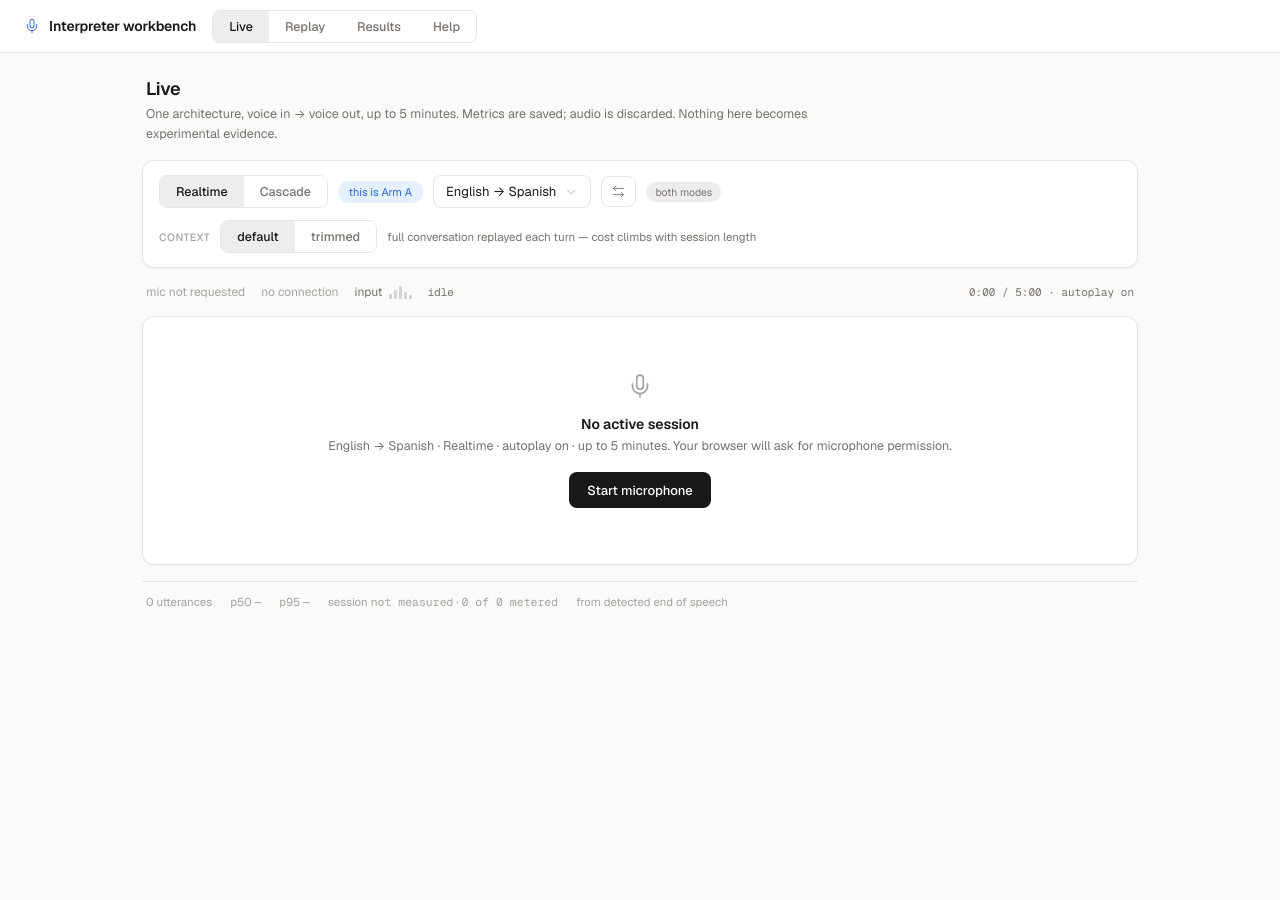
Test: TICKET 062 — a Live utterance RECORD names the selected languages › swapping the direction files the record as es→en, not en→es
The image size is (1280, 900).
Click the button "Start microphone" at (640, 490), box x1=569 y1=472 x2=711 y2=508
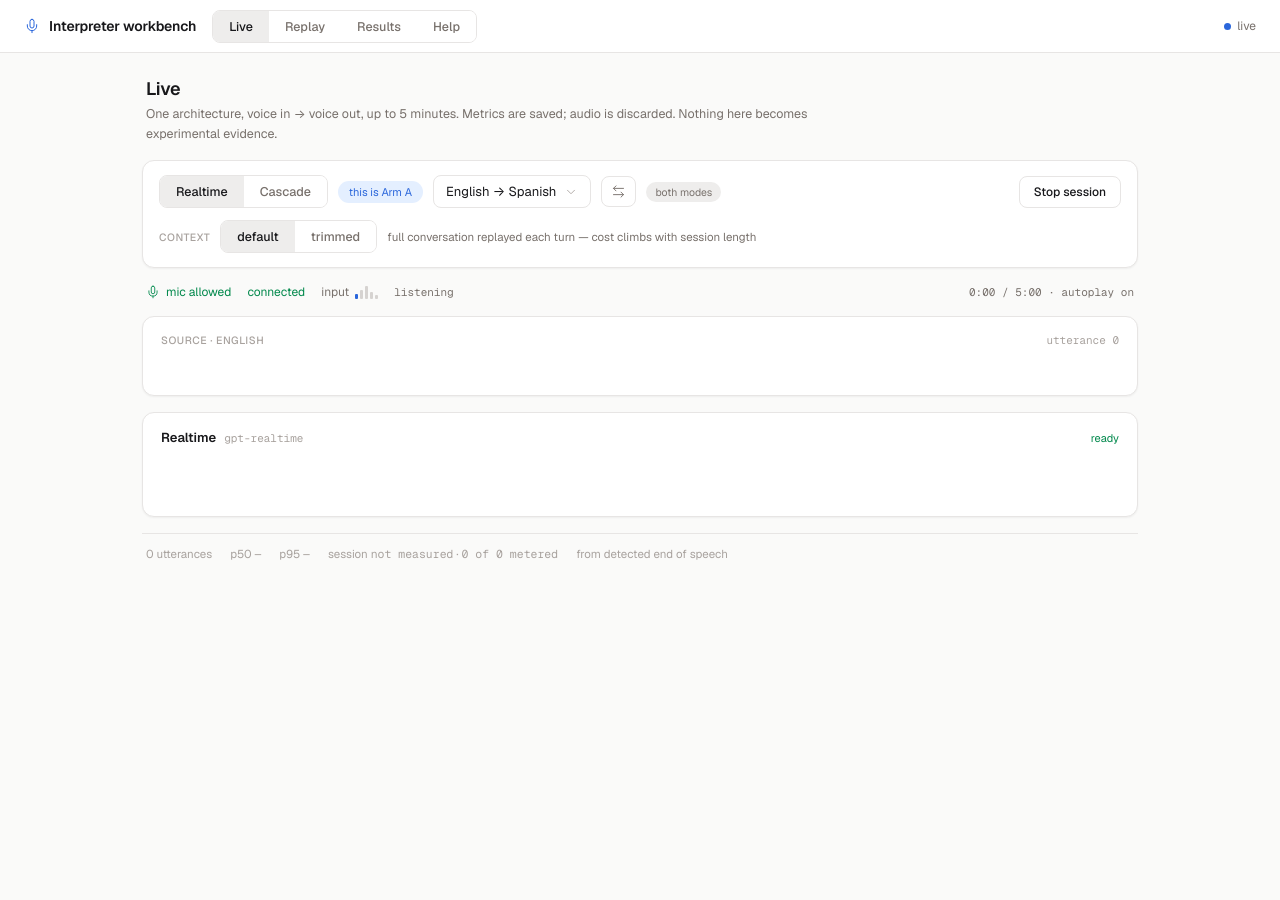
Click the button named "Swap direction" at (619, 192), box x1=601 y1=176 x2=636 y2=207
Wait 1400 ms
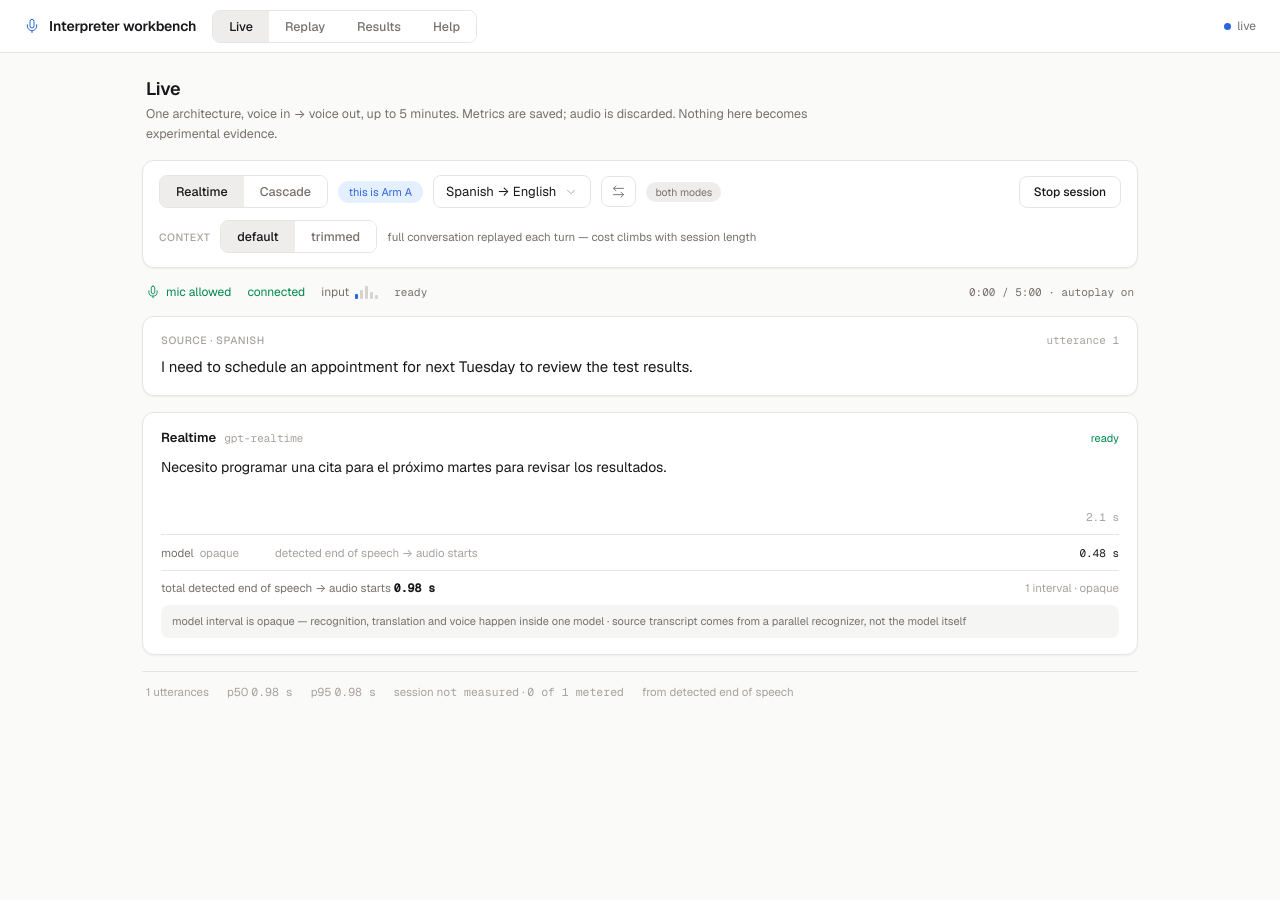
Result: the button "Spanish → English" is shown at x1=433 y1=175 x2=591 y2=208
